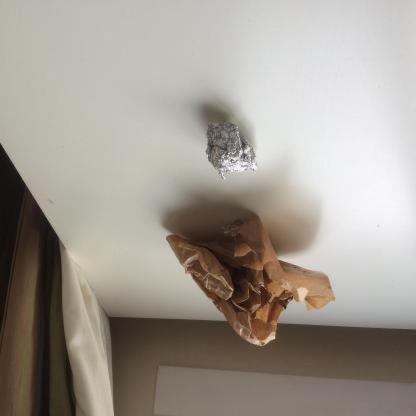Aluminium foil: (205, 122, 258, 180), (222, 219, 249, 237)
Other litter: (166, 216, 336, 346)
